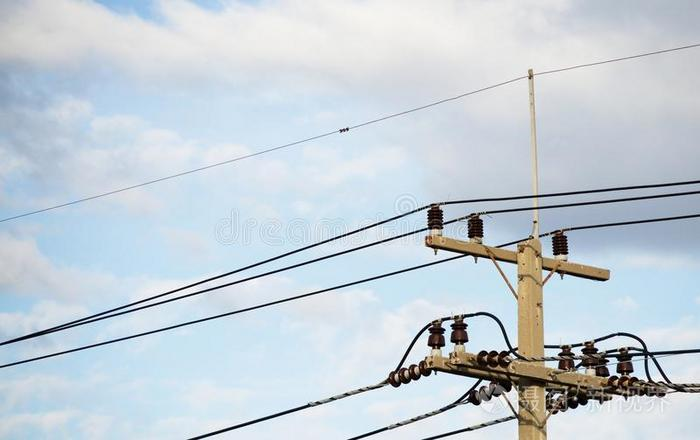insulator: (387, 365, 432, 389), (465, 382, 505, 408), (546, 390, 587, 413), (475, 350, 513, 367), (610, 373, 639, 392)
